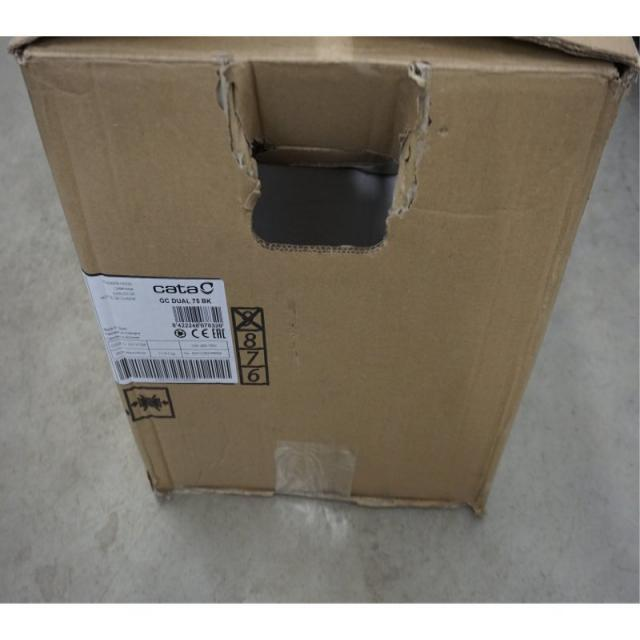hole: (216, 69, 422, 257)
